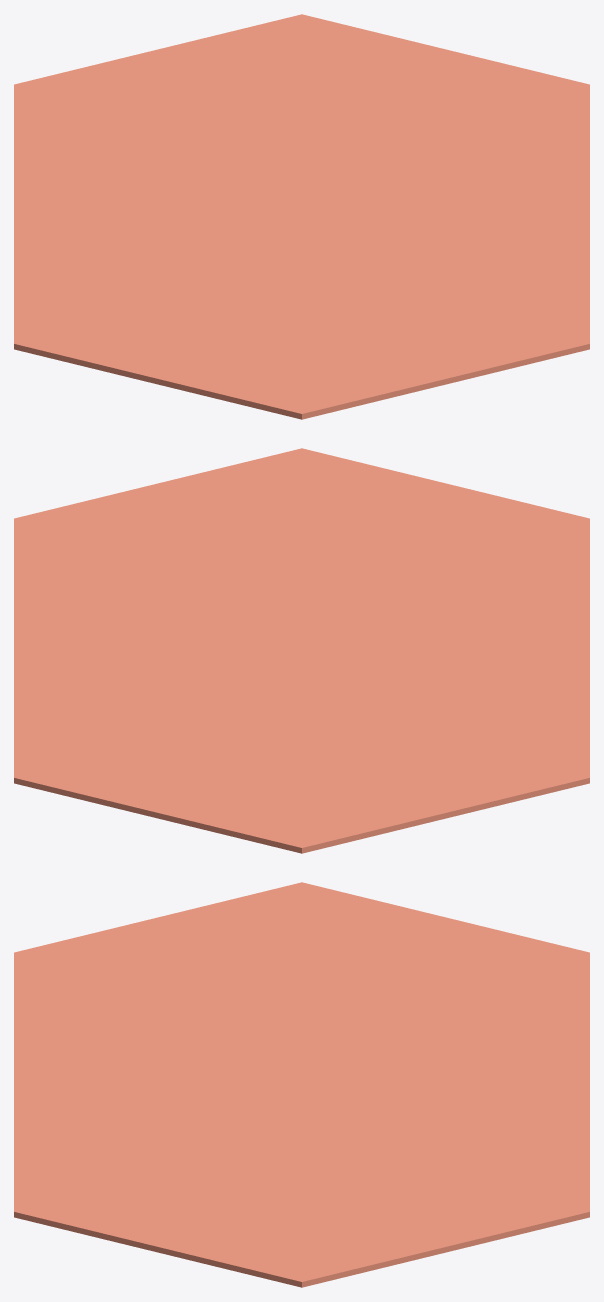
The model's file is floor.fbx.
The picture shows the model from 3 angles, top to bottom: view 1: azimuth 30°, elevation 25°; view 2: azimuth 150°, elevation 25°; view 3: azimuth 270°, elevation 25°; orthographic projection.
Visible parts, largest first — view 1: 楼板; view 2: 楼板; view 3: 楼板.
Boxes of the visible parts, bbox=[...] form: 楼板: bbox=[14, 14, 589, 419]; 楼板: bbox=[14, 448, 589, 853]; 楼板: bbox=[14, 882, 589, 1287].
Size of the model in its own units: 16 by 13.86 by 3.3.
